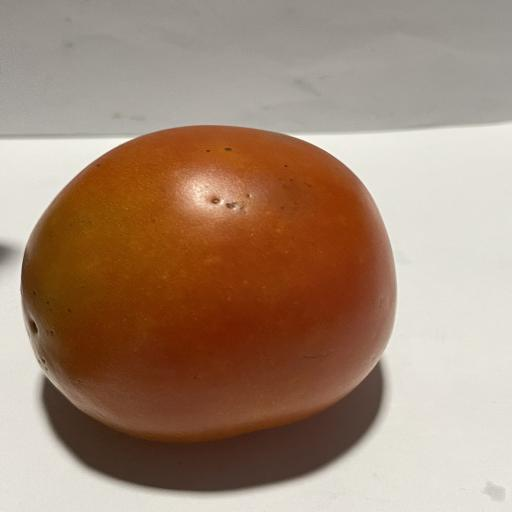unripe: (22, 126, 396, 442)
